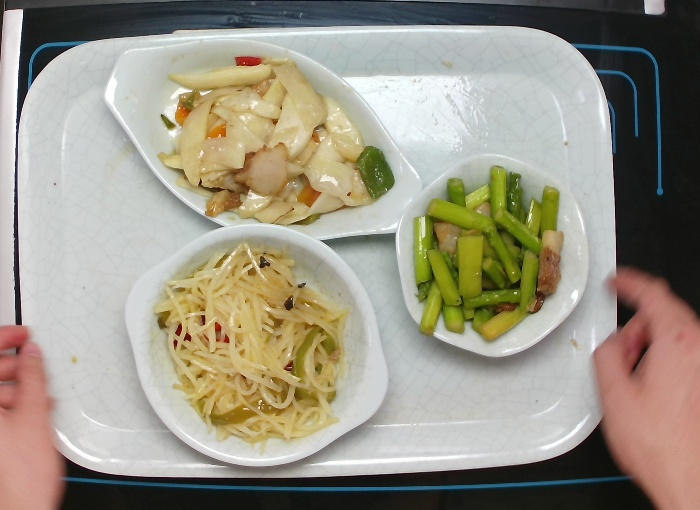JYsf-Shuang_Er_Wan: (123, 221, 391, 471)
JYsf-Yu_Pan: (101, 35, 426, 243)
WCQzf-Hua_Duo_Wan: (393, 151, 591, 360)
